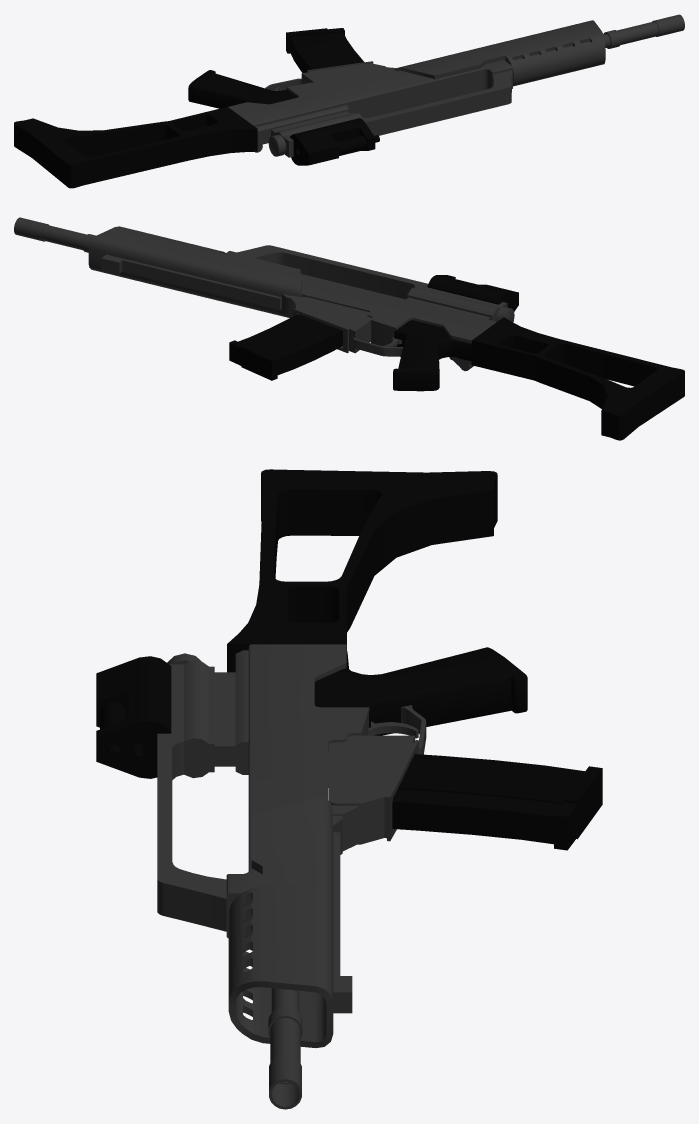
3 renders of one model, top to bottom at view 1: azimuth 30°, elevation 25°; view 2: azimuth 150°, elevation 25°; view 3: azimuth 270°, elevation 25°, orthographic. The views are drawn at different scales.
Parts seen in each view (by area): view 1: G36_K; view 2: G36_K; view 3: G36_K.
Boxes of the visible parts, x1,y1,x2,y2 form: G36_K: (14,14,684,188); G36_K: (14,217,684,440); G36_K: (96,469,602,1109).
Bounding box in the file's own units: 36.53 × 1.96 × 12.98.
2 materials, 2 textured.
